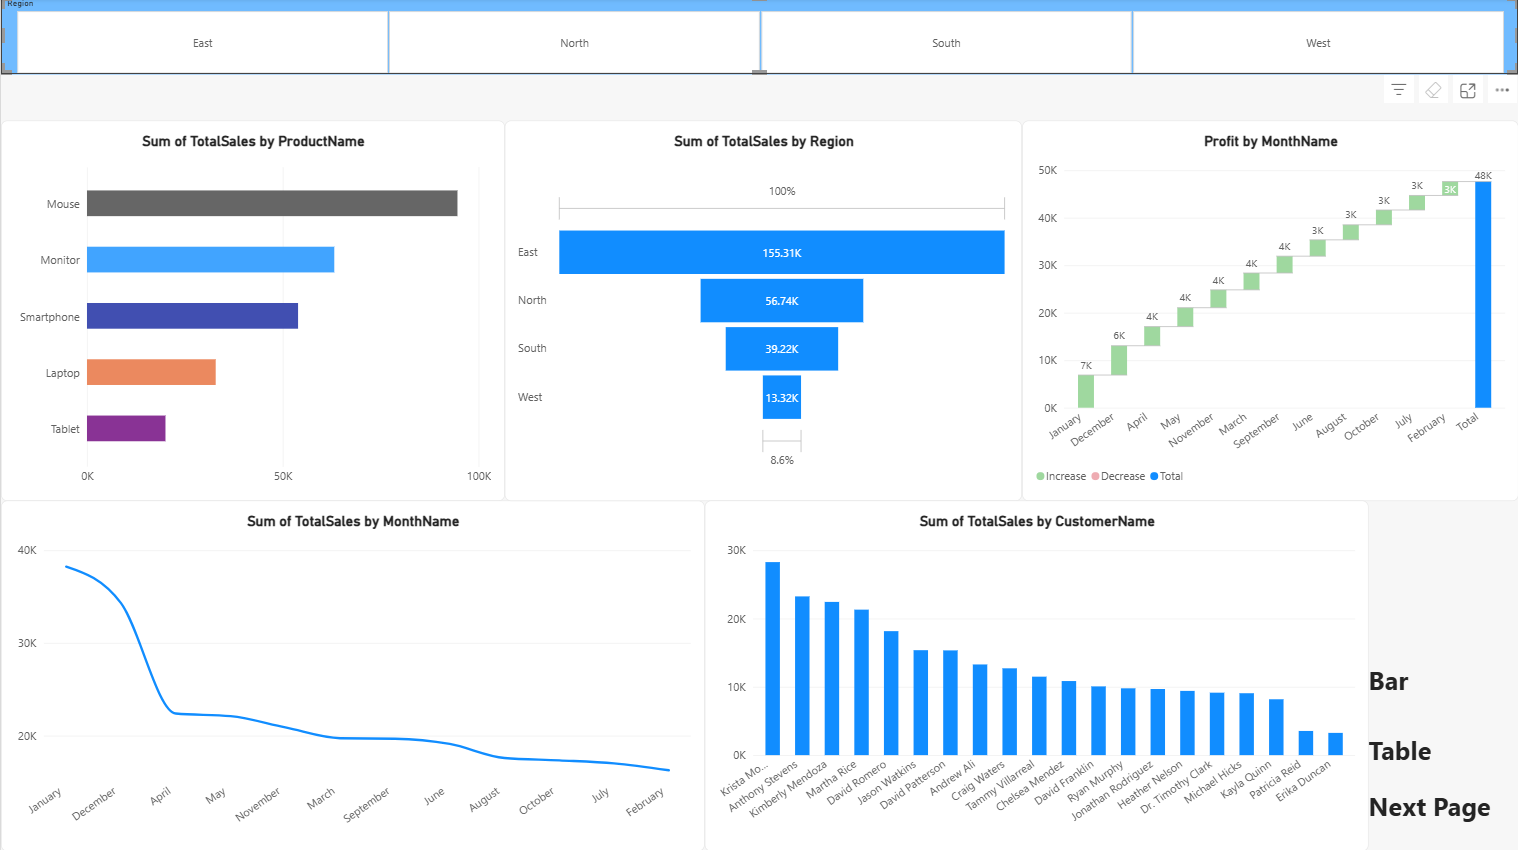

The page's visual inventory and layout, read from the dashboard file:
{"tool":"powerbi","page":{"name":"Page 1","canvas":[1920,1080],"ordinal":0},"visuals":[{"type":"barChart","fields":{"Category":["Dim_Products.ProductName"],"Y":["Sum(Fact_Sales.TotalSales)"]},"box":[0,154.7,637.5,481.2],"z":0},{"type":"lineChart","fields":{"Category":["Dim_Date.MonthName"],"Y":["Sum(Fact_Sales.TotalSales)"]},"box":[0,636,890,444],"z":1000},{"type":"funnel","fields":{"Category":["Dim_Customers.Region"],"Y":["Sum(Fact_Sales.TotalSales)"]},"box":[637.5,154.7,654.7,481.2],"z":2000},{"type":"waterfallChart","fields":{"Category":["Dim_Date.MonthName","Dim_Products.Category"],"Y":["Fact_Sales.Profit"]},"box":[1292.2,154.7,628.1,481.2],"z":3000},{"type":"slicer","fields":{"Values":["Dim_Customers.Region"]},"box":[0,0,1920.3,96.9],"z":4000},{"type":"textbox","box":[1730,1002,190,78],"z":5000},{"type":"actionButton","box":[1730,940,190,78],"z":6000},{"type":"columnChart","fields":{"Category":["Dim_Customers.CustomerName"],"Y":["Sum(Fact_Sales.TotalSales)"]},"box":[890,636,840,444],"z":7000},{"type":"textbox","box":[1730,930,126,72],"z":9000},{"type":"actionButton","box":[1730,930,190,72],"z":10000},{"type":"actionButton","box":[1730,940,190,72],"z":11000},{"type":"textbox","box":[1730,842,190,88],"z":12000},{"type":"actionButton","box":[1730,850,190,80],"z":13000}]}

Visuals, with their boxes in screenshot pixels (x1, y1, x2, y2), scaled from the page's 1920x1080 canvas onto the 1518x850 screenshot:
barChart - Dim_Products.ProductName x Sum(Fact_Sales.TotalSales): detection(0, 122, 504, 500)
lineChart - Dim_Date.MonthName x Sum(Fact_Sales.TotalSales): detection(0, 501, 704, 849)
funnel - Dim_Customers.Region x Sum(Fact_Sales.TotalSales): detection(504, 122, 1022, 500)
waterfallChart - Dim_Date.MonthName x Dim_Products.Category: detection(1022, 122, 1517, 500)
slicer - Dim_Customers.Region: detection(0, 0, 1517, 76)
textbox: detection(1368, 789, 1517, 849)
actionButton: detection(1368, 740, 1517, 801)
columnChart - Dim_Customers.CustomerName x Sum(Fact_Sales.TotalSales): detection(704, 501, 1368, 849)
textbox: detection(1368, 732, 1467, 789)
actionButton: detection(1368, 732, 1517, 789)
actionButton: detection(1368, 740, 1517, 796)
textbox: detection(1368, 663, 1517, 732)
actionButton: detection(1368, 669, 1517, 732)
